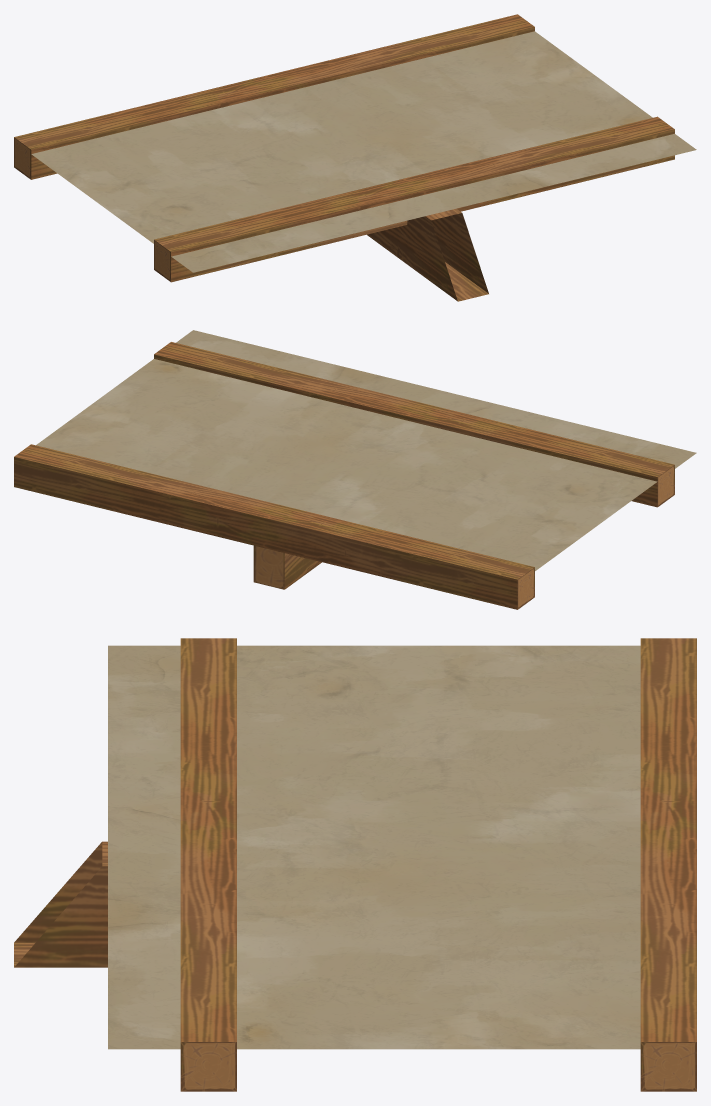
File: Overhang_RoofIncline_Plaster.gltf
The picture shows the model from 3 angles, top to bottom: view 1: azimuth 30°, elevation 25°; view 2: azimuth 150°, elevation 25°; view 3: azimuth 270°, elevation 25°; orthographic projection. The views are drawn at different scales.
Visible parts, largest first — view 1: Overhang_RoofIncline_Plaster; view 2: Overhang_RoofIncline_Plaster; view 3: Overhang_RoofIncline_Plaster.
Boxes of the visible parts, x1=… form: Overhang_RoofIncline_Plaster: x1=14, y1=14, x2=696, y2=301; Overhang_RoofIncline_Plaster: x1=14, y1=330, x2=696, y2=609; Overhang_RoofIncline_Plaster: x1=14, y1=638, x2=696, y2=1091.
Bounding box in the file's own units: 2 × 0.2659 × 1.43.
2 materials, 2 textured.
